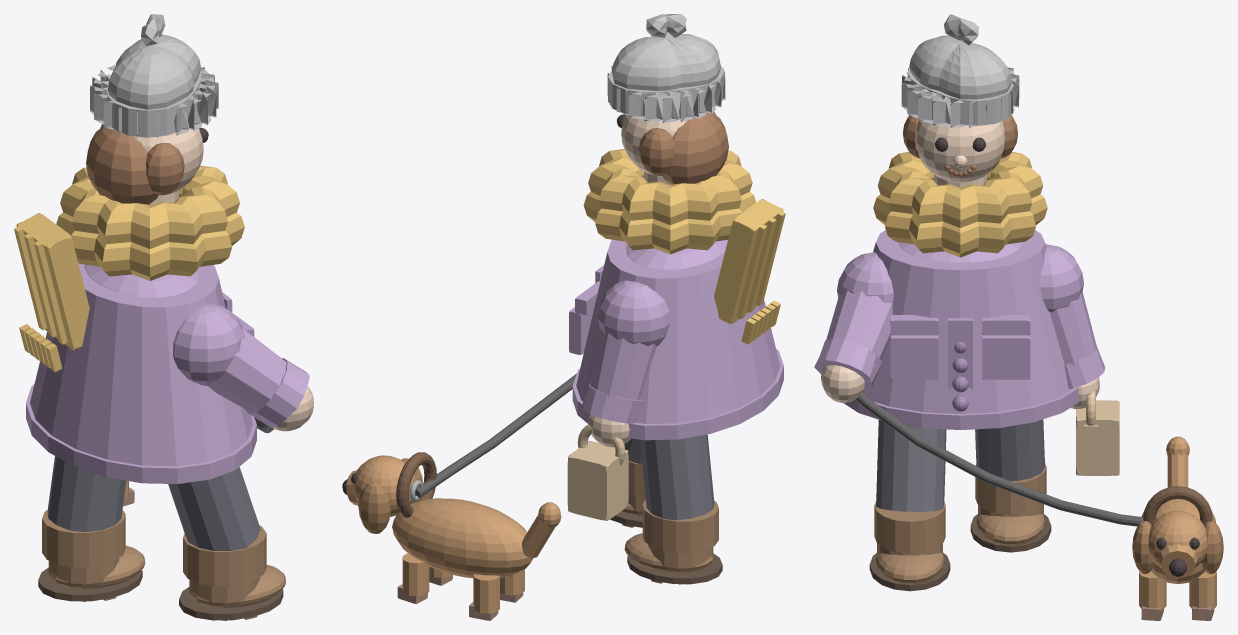
File: 09-dog-walker.glb
3 views of the same model, side by side, from view 1: azimuth 30°, elevation 25°; view 2: azimuth 150°, elevation 25°; view 3: azimuth 270°, elevation 25° (orthographic). The views are drawn at different scales.
Visible parts, largest first — view 1: Coat, ScarfWrap2, ScarfWrap1, Leg_R, BeanieDome, CoatHemBand, Leg_L, ShoulderPad_R, ScarfTail, HairBack, Sleeve_R, BootCuff_L (+17 smaller); view 2: Coat, DogBody, ScarfWrap2, Leg_L, BeanieDome, ScarfWrap1, Bag, ShoulderPad_L, ScarfTail, HairBack, Sleeve_L, CoatHemBand (+22 smaller); view 3: Coat, ScarfWrap2, Leg_R, ScarfWrap1, BeanieDome, Head, Leg_L, CoatHemBand, Sleeve_R, Bag, BootCuff_R, ShoulderPad_L (+31 smaller).
Boxes of the visible parts, <box> form: Coat: <box>30,263,252,466</box>; ScarfWrap2: <box>60,165,239,248</box>; ScarfWrap1: <box>56,212,244,280</box>; Leg_R: <box>168,467,260,550</box>; BeanieDome: <box>107,34,200,109</box>; CoatHemBand: <box>26,384,256,483</box>; Leg_L: <box>47,456,126,531</box>; ShoulderPad_R: <box>173,303,244,385</box>; ScarfTail: <box>16,213,89,349</box>; HairBack: <box>86,126,158,204</box>; Sleeve_R: <box>208,328,286,412</box>; BootCuff_L: <box>42,510,125,567</box>; Coat: <box>576,239,780,423</box>; DogBody: <box>392,498,533,578</box>; ScarfWrap2: <box>588,149,752,225</box>; Leg_L: <box>640,434,714,520</box>; BeanieDome: <box>612,34,720,90</box>; ScarfWrap1: <box>583,192,756,254</box>; Bag: <box>567,441,628,520</box>; ShoulderPad_L: <box>598,280,670,346</box>; ScarfTail: <box>714,199,783,324</box>; HairBack: <box>662,112,728,184</box>; Sleeve_L: <box>590,328,656,399</box>; CoatHemBand: <box>572,349,783,440</box>; Coat: <box>862,230,1072,414</box>; ScarfWrap2: <box>877,152,1043,227</box>; Leg_R: <box>876,420,946,511</box>; ScarfWrap1: <box>873,194,1047,257</box>; BeanieDome: <box>909,35,1011,99</box>; Head: <box>915,121,1005,182</box>; Leg_L: <box>975,419,1044,480</box>; CoatHemBand: <box>843,387,1079,429</box>; Sleeve_R: <box>826,290,892,369</box>; Bag: <box>1076,400,1119,475</box>; BootCuff_R: <box>874,501,945,553</box>; ShoulderPad_L: <box>1040,244,1083,312</box>.
Size of the model in its own units: 0.8319 by 1.28 by 0.8945.
